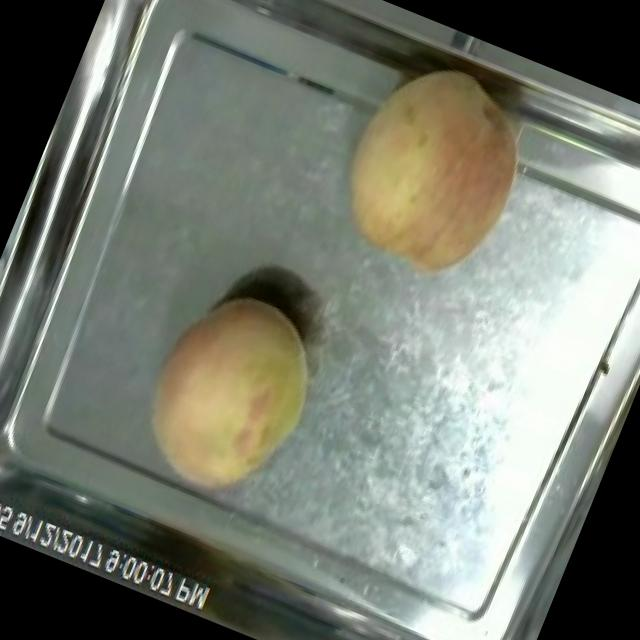Fruit: (306, 34, 558, 308), (111, 265, 349, 527)
